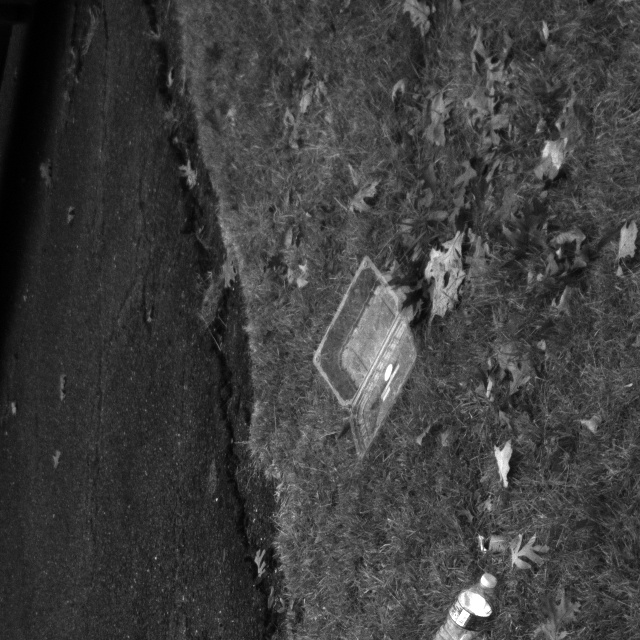bottle: (408, 556, 513, 640)
container: (307, 246, 433, 458)
